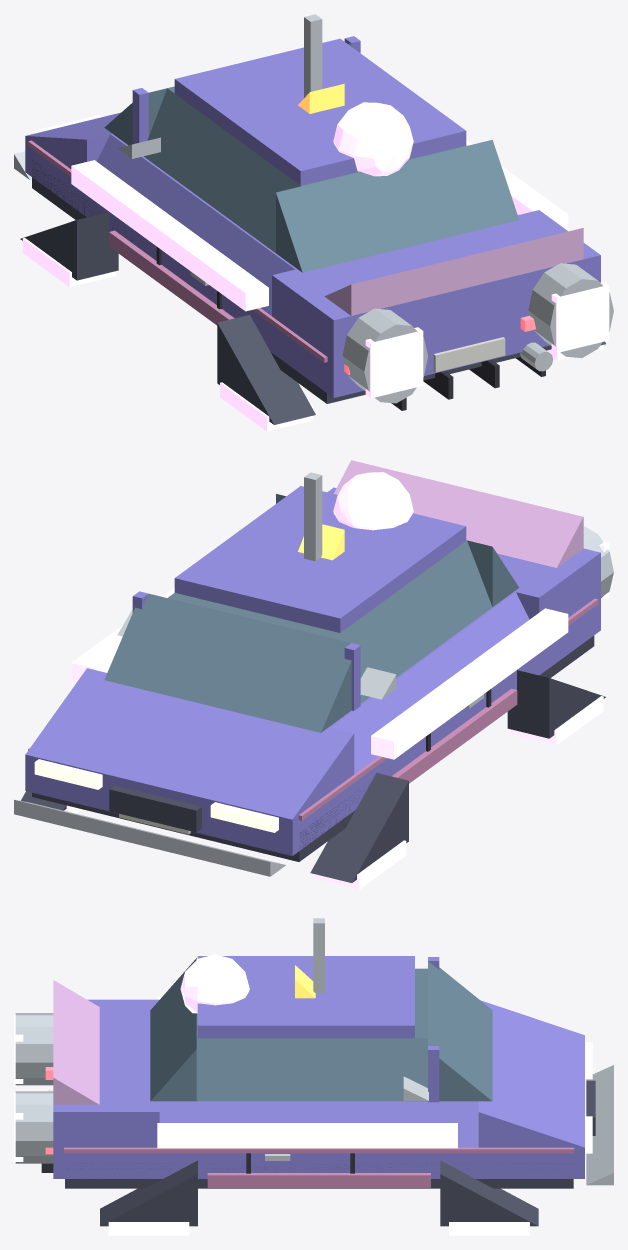
The model's file is flux_flyer.glb.
3 views of the same model, one above another, from view 1: azimuth 30°, elevation 25°; view 2: azimuth 150°, elevation 25°; view 3: azimuth 270°, elevation 25° (orthographic). The views are drawn at different scales.
Parts seen in each view (by area): view 1: RearWindow.207, Roof.307, Tail.107, CabinSideL.104, Body.307, Ducktail.074, FloatFin-1.049, ShoulderL.104, HoverPodWheel_RL.049, EnergyCore.049, HoverPodWheel_FL.049, ThrusterGlow-1.049 (+16 smaller); view 2: Nose.104, Windshield.207, Roof.307, Body.307, CabinSideL.104, Ducktail.074, FloatFin-1.049, ShoulderL.104, HoverPodWheel_FL.049, Tail.107, Bumper.303, HoverPodWheel_RL.049 (+17 smaller); view 3: Roof.307, CabinSideR.104, Nose.104, Body.307, Tail.107, FloatFin1.049, ShoulderR.104, Windshield.207, Ducktail.074, RearWindow.207, HoverPodWheel_FR.049, HoverPodWheel_RR.049 (+16 smaller).
Part boxes in pixels (left/top/right/bottom): RearWindow.207: left=276, top=139, right=519, bottom=272; Roof.307: left=174, top=38, right=466, bottom=185; Tail.107: left=272, top=210, right=600, bottom=361; CabinSideL.104: left=144, top=88, right=300, bottom=252; Body.307: left=25, top=136, right=549, bottom=397; Ducktail.074: left=324, top=228, right=583, bottom=315; FloatFin-1.049: left=71, top=160, right=268, bottom=311; ShoulderL.104: left=97, top=134, right=294, bottom=315; HoverPodWheel_RL.049: left=217, top=314, right=315, bottom=424; EnergyCore.049: left=333, top=102, right=413, bottom=176; HoverPodWheel_FL.049: left=20, top=212, right=118, bottom=280; ThrusterGlow-1.049: left=365, top=327, right=423, bottom=398; Nose.104: left=25, top=668, right=354, bottom=819; Windshield.207: left=104, top=593, right=351, bottom=732; Roof.307: left=174, top=486, right=466, bottom=632; Body.307: left=25, top=594, right=600, bottom=855; CabinSideL.104: left=333, top=540, right=492, bottom=703; Ducktail.074: left=333, top=460, right=583, bottom=567; FloatFin-1.049: left=371, top=608, right=568, bottom=759; ShoulderL.104: left=331, top=592, right=529, bottom=773; HoverPodWheel_FL.049: left=310, top=773, right=408, bottom=882; Tail.107: left=327, top=487, right=600, bottom=619; Bumper.303: left=14, top=799, right=285, bottom=876; HoverPodWheel_RL.049: left=507, top=670, right=605, bottom=738; Roof.307: left=197, top=956, right=414, bottom=1038; CabinSideR.104: left=196, top=1038, right=427, bottom=1101; Nose.104: left=478, top=1000, right=584, bottom=1147; Body.307: left=53, top=1147, right=584, bottom=1178; Tail.107: left=53, top=999, right=159, bottom=1147; FloatFin1.049: left=157, top=1123, right=457, bottom=1148; ShoulderR.104: left=159, top=1102, right=478, bottom=1147; Windshield.207: left=428, top=961, right=492, bottom=1101; Ducktail.074: left=53, top=980, right=99, bottom=1104; RearWindow.207: left=150, top=958, right=196, bottom=1101; HoverPodWheel_FR.049: left=440, top=1160, right=538, bottom=1226; HoverPodWheel_RR.049: left=100, top=1160, right=197, bottom=1226.
Size of the model in its own units: 2.9 by 2.33 by 5.19.
